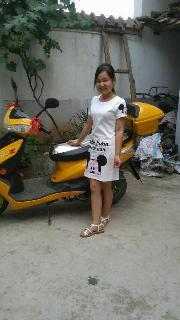short sleeve dress: (84, 95, 127, 182)
